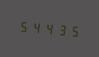five: (18, 17, 29, 35), (66, 21, 77, 39)
four: (30, 18, 41, 36), (42, 19, 53, 37)
three: (54, 20, 65, 38)
